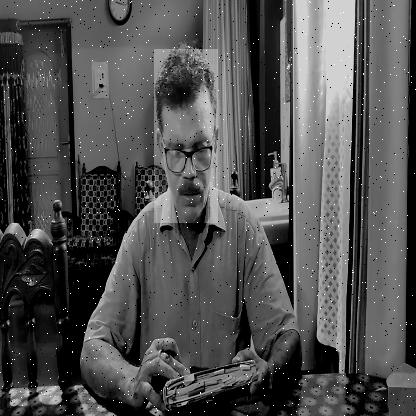Normal: (154, 49, 218, 223)
